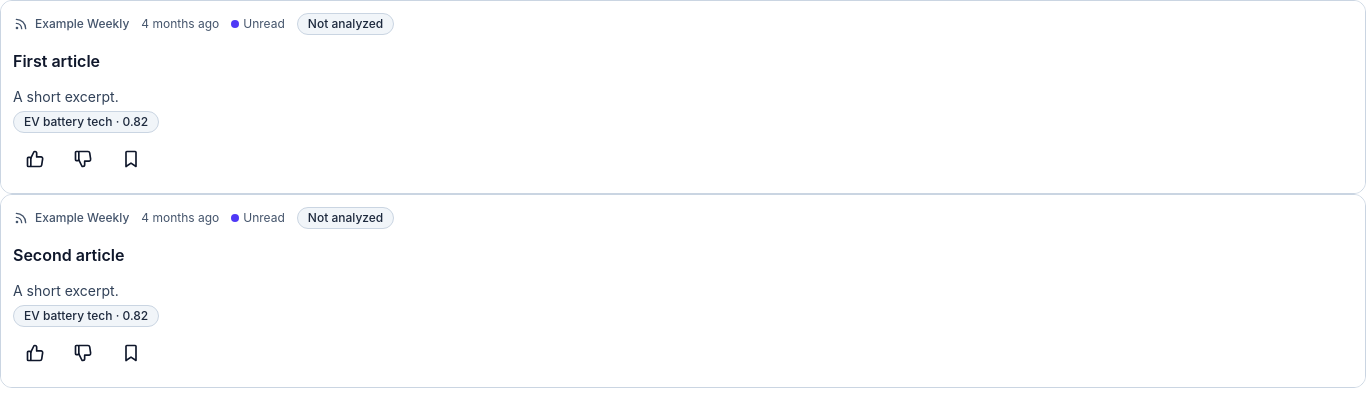
Test: a row whose article has a change waiting to be sent › says so, in the row and in the description of its title, and only in that row
Click the 1st button named "Like".
click(35, 159)  # box [13,137,57,181]
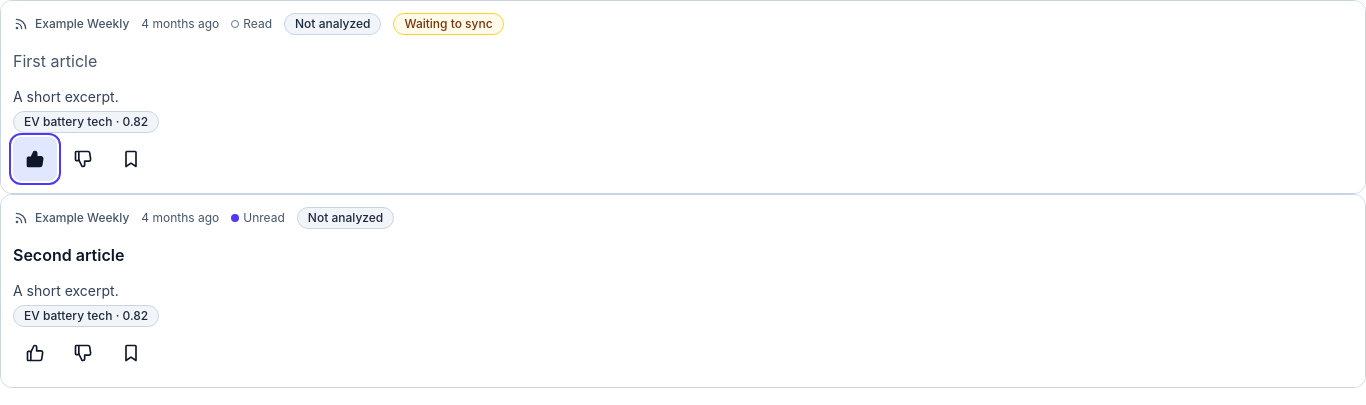
Expected: the text "Waiting to sync" is shown, [394,13,504,35]
